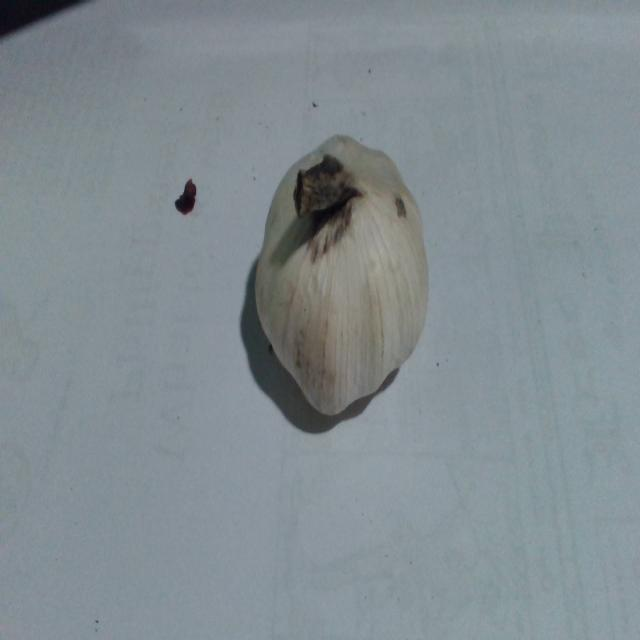garlic: (252, 129, 434, 421)
